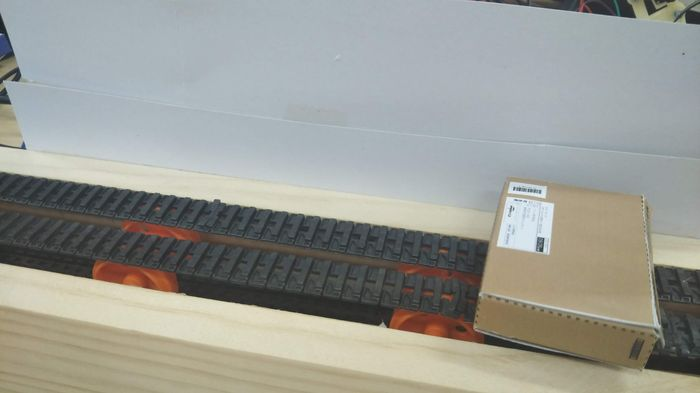box2: (469, 171, 665, 376)
